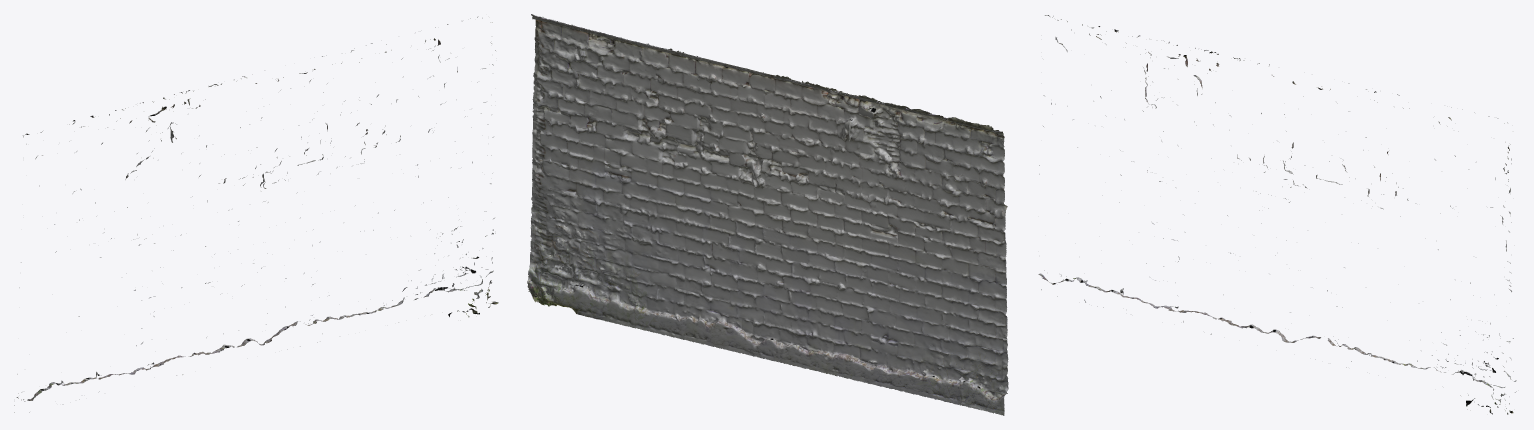
Rendered from brick_wall___decimatednormalsoclusion.glb.
The picture shows the model from 3 angles, left to right: view 1: azimuth 30°, elevation 25°; view 2: azimuth 150°, elevation 25°; view 3: azimuth 330°, elevation 25°; orthographic projection.
Parts seen in each view (by area): view 1: Model; view 2: Model; view 3: Model.
Part boxes in pixels (left/top/right/bottom): Model: left=14, top=16, right=498, bottom=412; Model: left=527, top=14, right=1008, bottom=415; Model: left=1038, top=15, right=1516, bottom=414.
Bounding box in the file's own units: 4.36 × 2.54 × 0.1688.
Materials: 1 (1 with a texture image).
